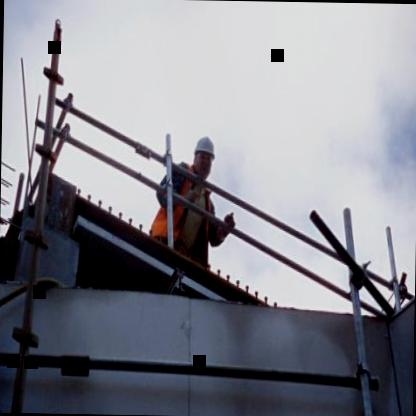helmet: (190, 130, 218, 179)
